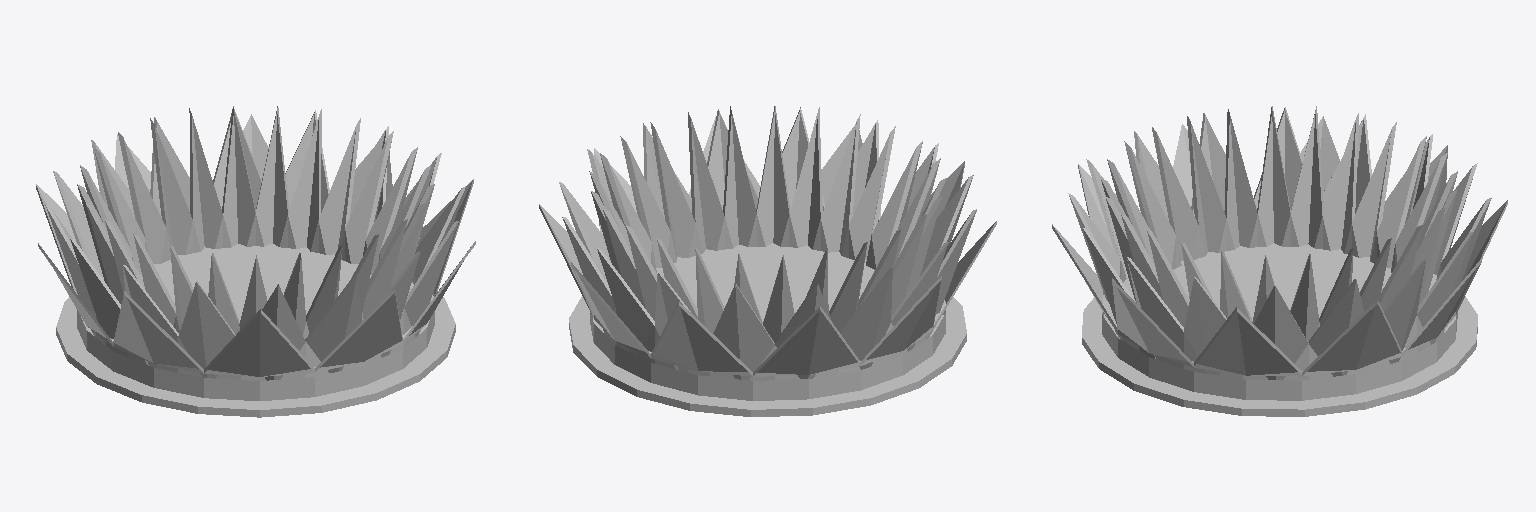
Rendered from portal_abrir_000031.obj.
3 views of the same model, side by side, from view 1: azimuth 30°, elevation 25°; view 2: azimuth 150°, elevation 25°; view 3: azimuth 270°, elevation 25° (orthographic).
Visible parts, largest first — view 1: Cylinder.001, pCylinder1, Cylinder; view 2: Cylinder.001, pCylinder1, Cylinder; view 3: pCylinder1, Cylinder.001, Cylinder.
Boxes of the visible parts, x1=… form: Cylinder.001: x1=77, y1=106, x2=434, y2=338; pCylinder1: x1=36, y1=114, x2=475, y2=417; Cylinder: x1=45, y1=109, x2=466, y2=380; Cylinder.001: x1=589, y1=106, x2=946, y2=342; pCylinder1: x1=539, y1=117, x2=996, y2=416; Cylinder: x1=559, y1=107, x2=976, y2=380; pCylinder1: x1=1052, y1=116, x2=1507, y2=416; Cylinder.001: x1=1100, y1=106, x2=1457, y2=341; Cylinder: x1=1068, y1=107, x2=1491, y2=380.
Bounding box in the file's own units: 5.73 × 2.16 × 5.79.